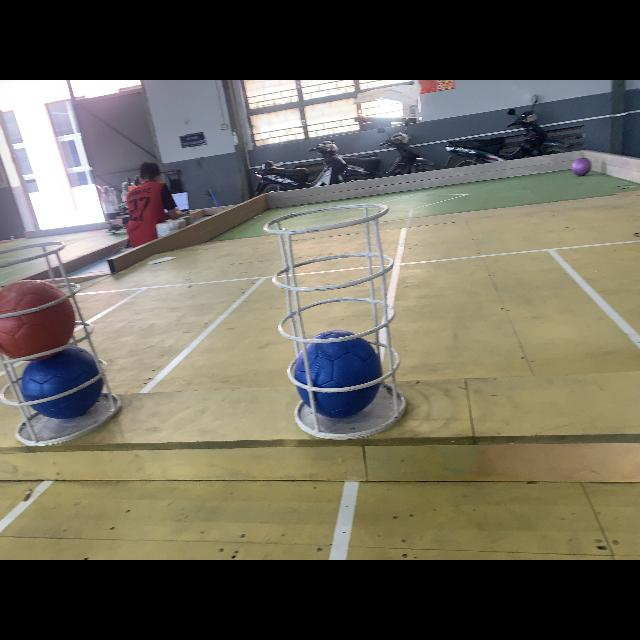B: (294, 330, 382, 420), (22, 348, 104, 417)
R: (0, 277, 74, 359)
